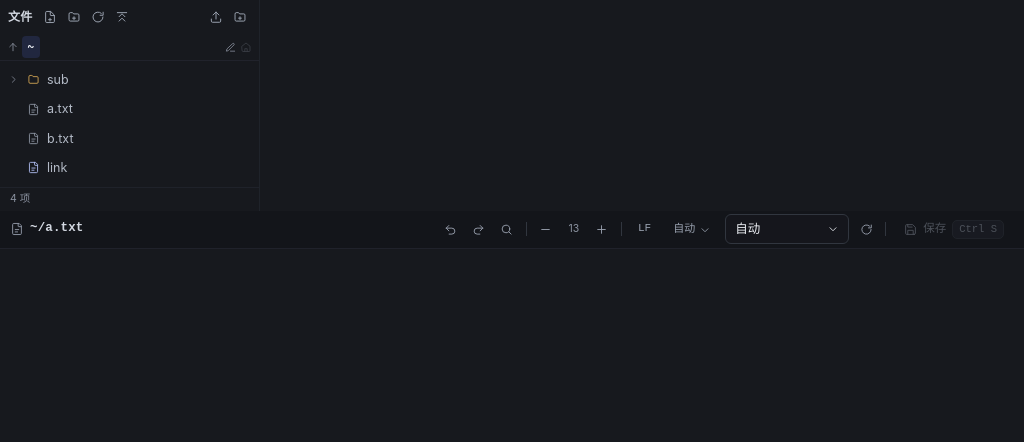
Scenario: R2 rename editor locator migration › rejects rename while the initial read is in flight instead of racing the locator
The image size is (1024, 442).
Right-click the list item "a.txt" at (50, 109), box [27, 101, 73, 116]
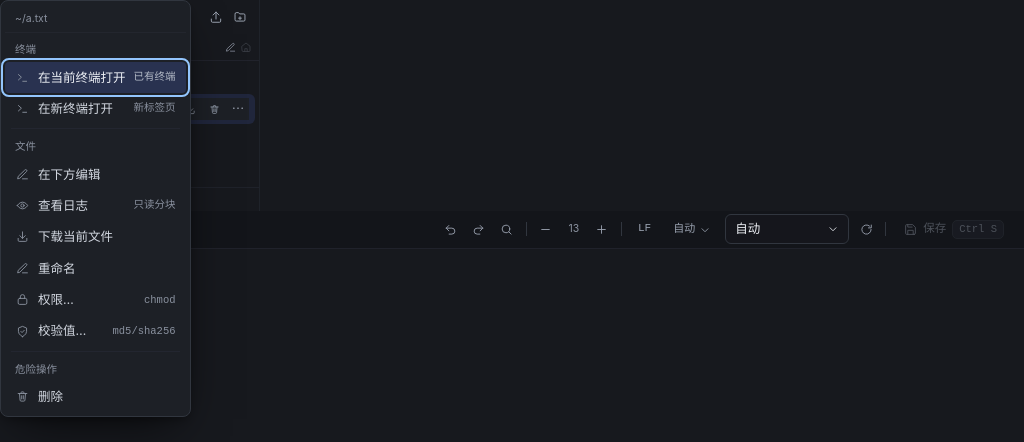
Click the menu item "重命名" at (95, 268), box [5, 253, 186, 284]
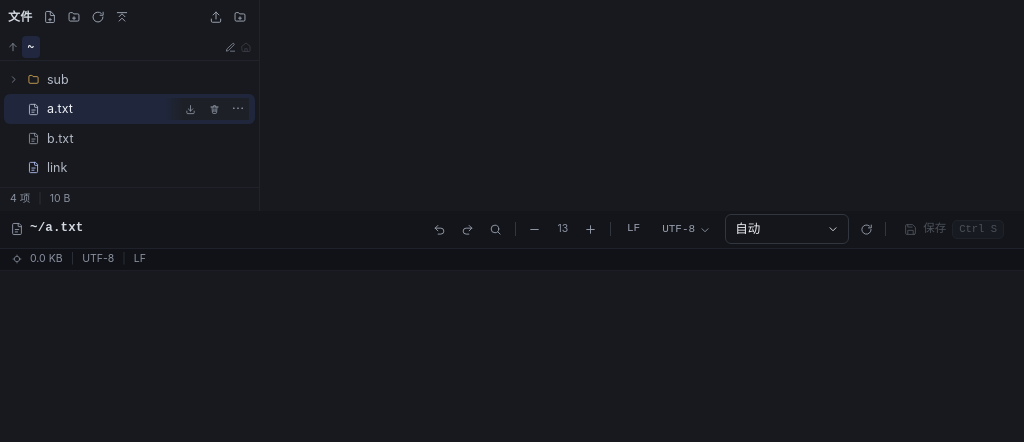
Right-click the list item "a.txt ⋯" at (130, 109), box [4, 94, 255, 124]
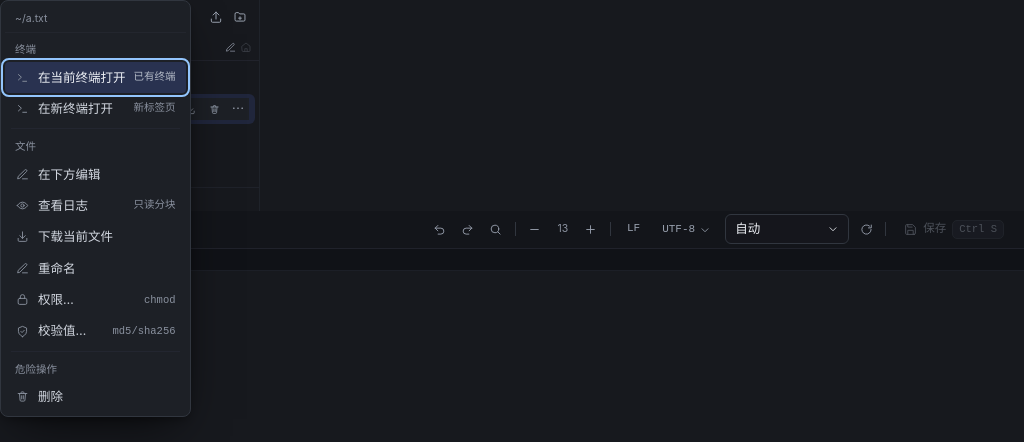
Click the menu item "重命名" at (95, 268), box [5, 253, 186, 284]
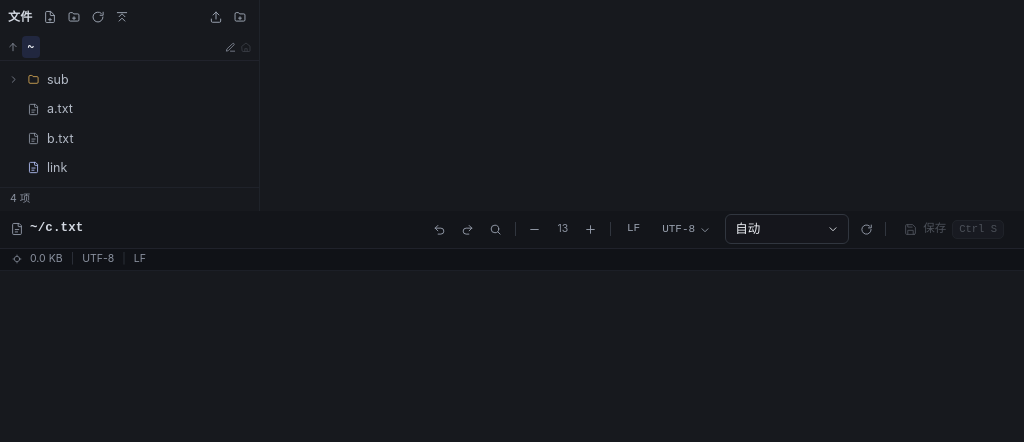
Expected: the text "~/c.txt" is shown, [30, 219, 83, 239]
